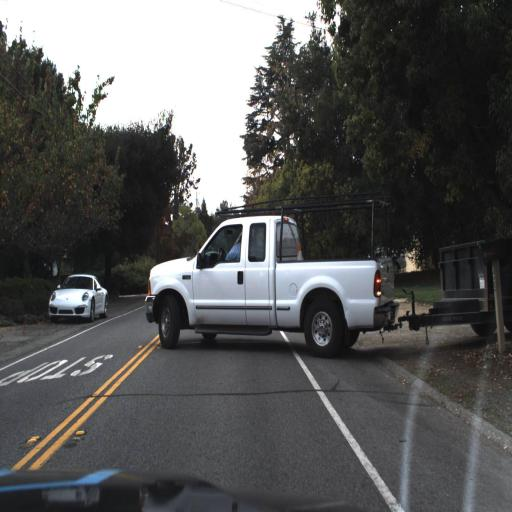car: (45, 268, 107, 323)
truck: (132, 170, 511, 391)
